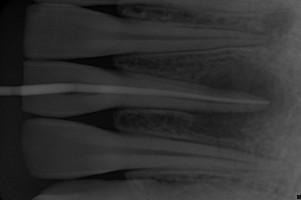Furcation Involvement: (190, 58, 284, 142)
